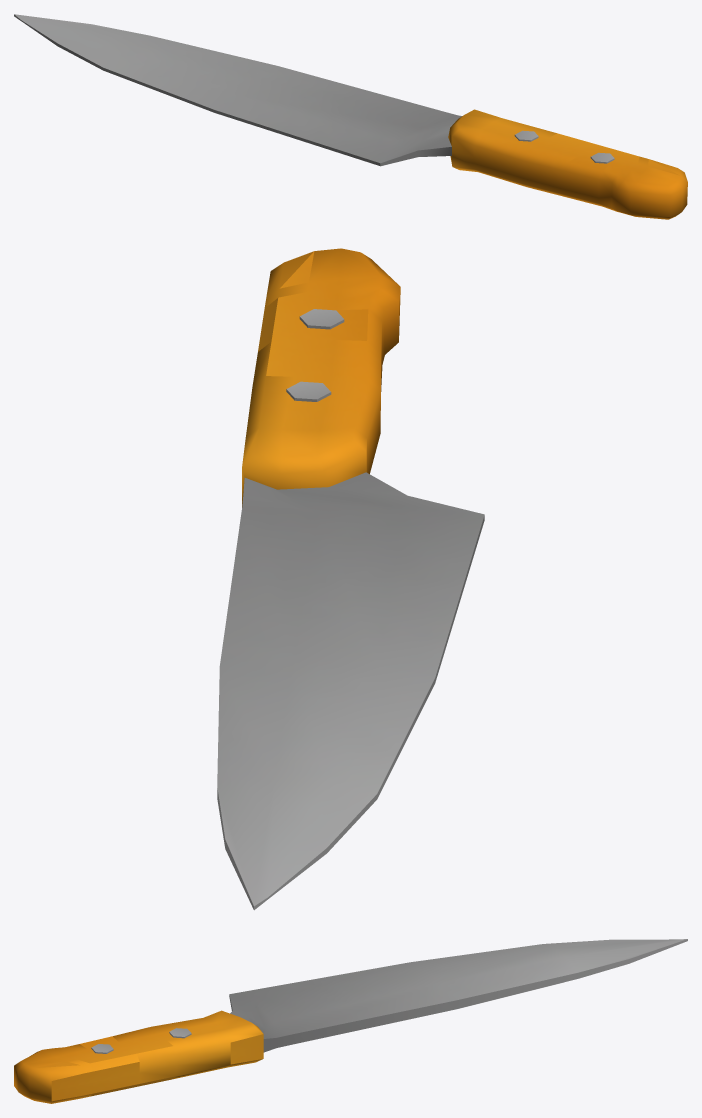
File: Knife.fbx
3 views of the same model, one above another, from view 1: azimuth 30°, elevation 25°; view 2: azimuth 150°, elevation 25°; view 3: azimuth 270°, elevation 25° (orthographic). The views are drawn at different scales.
Parts seen in each view (by area): view 1: Knife; view 2: Knife; view 3: Knife.
Boxes of the visible parts, <box> form: Knife: <box>14,14,687,219</box>; Knife: <box>217,248,484,910</box>; Knife: <box>14,939,687,1103</box>.
Bounding box in the file's own units: 686 × 81.14 × 1292.
